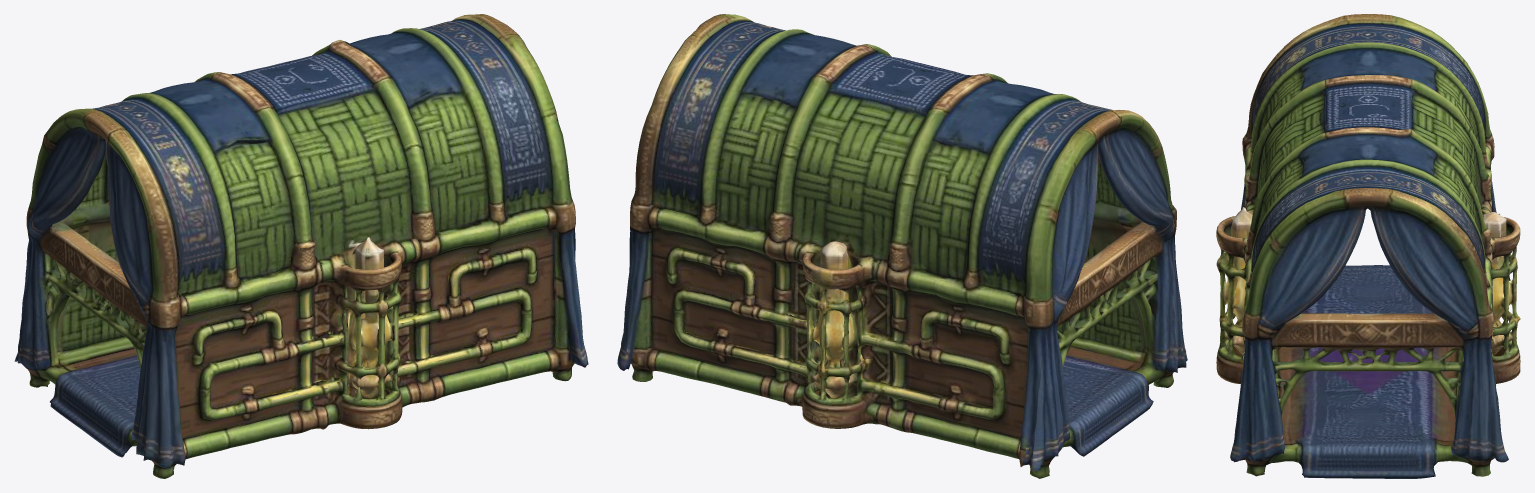
Rendered from Infrimary_Verdant_Vault.glb.
3 views of the same model, side by side, from view 1: azimuth 30°, elevation 25°; view 2: azimuth 150°, elevation 25°; view 3: azimuth 270°, elevation 25° (orthographic). The views are drawn at different scales.
Size of the model in its own units: 1.9 by 1.28 by 1.25.
Materials: 1 (1 with a texture image).
